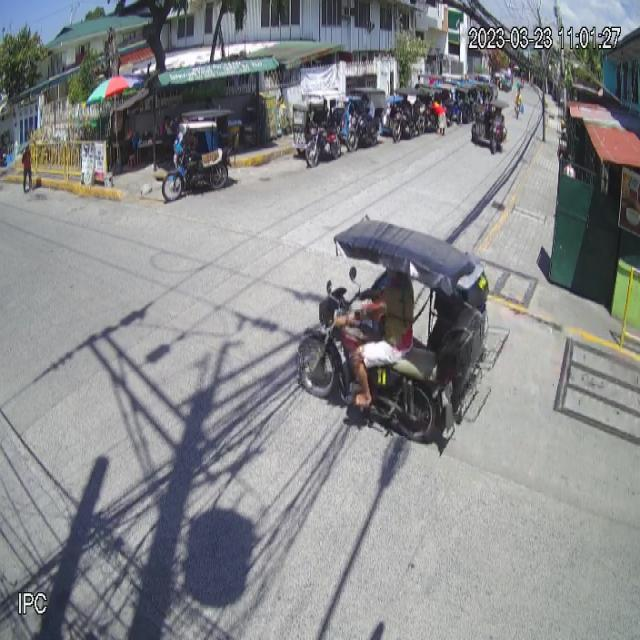Tricycle: (296, 218, 492, 443), (162, 108, 230, 202)
